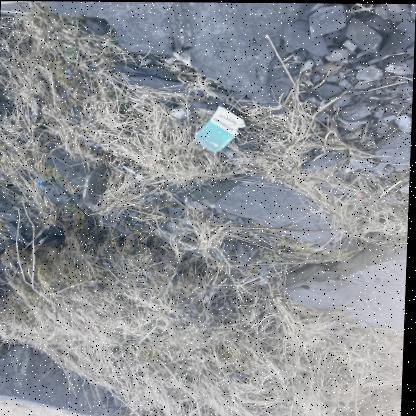Paper: (194, 105, 246, 151)
Plastic: (356, 191, 363, 195)
Waste: (124, 164, 137, 174), (38, 177, 45, 189), (137, 173, 142, 180), (185, 196, 189, 202)
